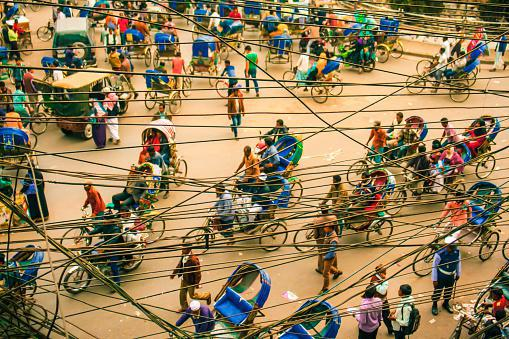bicycle: (58, 180, 166, 251), (405, 46, 472, 104), (416, 33, 476, 90), (281, 44, 330, 105), (216, 58, 250, 104)
motorbike: (60, 210, 147, 297), (249, 118, 292, 163), (335, 30, 378, 75)
person: (168, 237, 214, 314), (430, 233, 463, 318), (344, 279, 384, 338), (368, 262, 396, 338), (387, 281, 422, 339), (317, 221, 344, 296), (20, 159, 50, 225), (99, 85, 122, 146), (116, 50, 141, 104), (86, 95, 109, 148), (240, 43, 262, 98), (226, 85, 247, 142), (488, 27, 508, 75), (104, 26, 118, 63), (116, 12, 129, 47)
